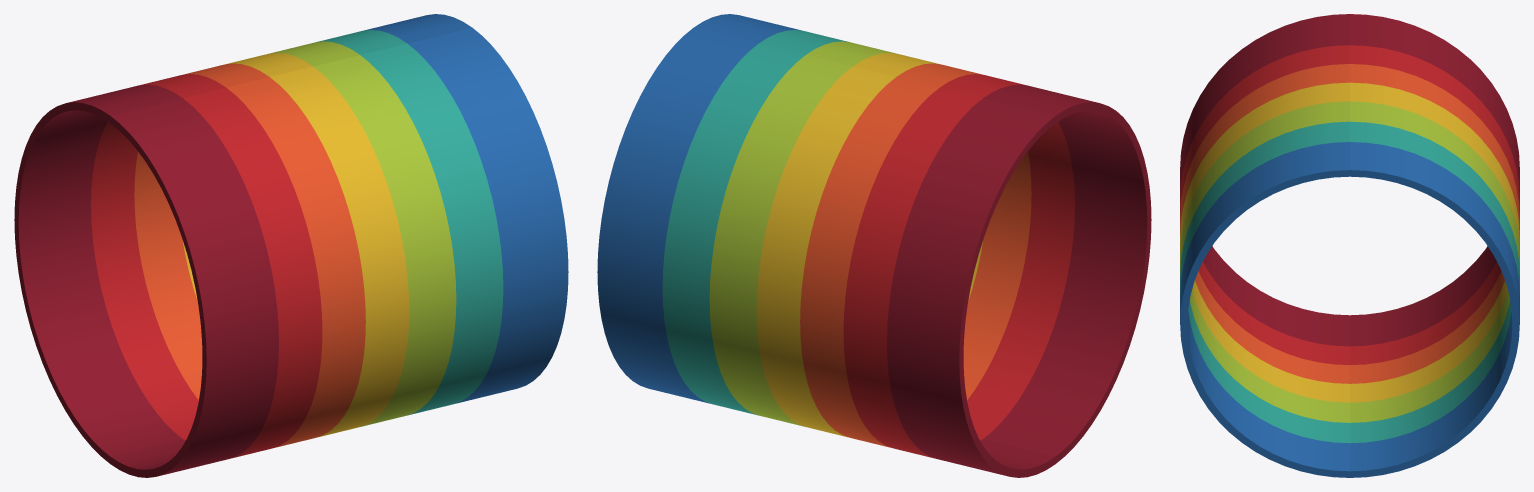
File: steam_turbine_pressure.glb
3 views of the same model, side by side, from view 1: azimuth 30°, elevation 25°; view 2: azimuth 150°, elevation 25°; view 3: azimuth 270°, elevation 25° (orthographic). The views are drawn at different scales.
Visible parts, largest first — view 1: bands__front, bands__back; view 2: bands__back, bands__front; view 3: bands__back, bands__front.
Part boxes in pixels (bbox=[...]): bands__front: bbox=[110, 27, 568, 477]; bands__back: bbox=[14, 14, 471, 463]; bands__back: bbox=[597, 27, 1055, 477]; bands__front: bbox=[694, 14, 1151, 463]; bands__back: bbox=[1350, 14, 1519, 477]; bands__front: bbox=[1180, 14, 1349, 477].
Size of the model in its own units: 1 by 0.92 by 0.92.
